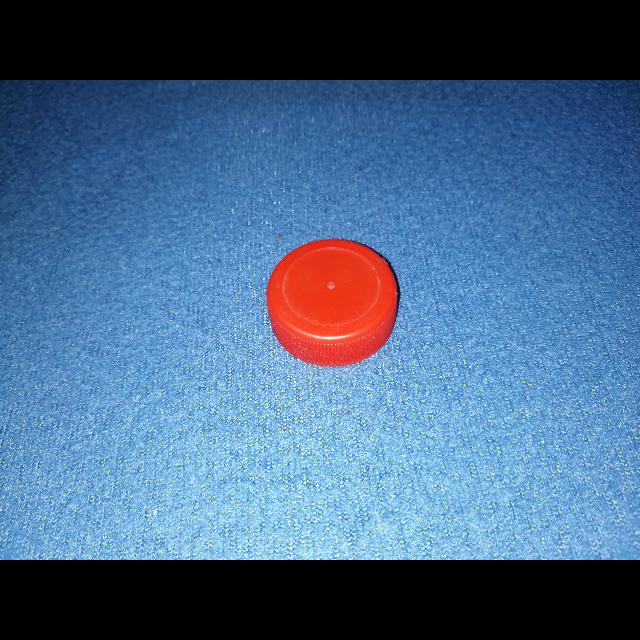plastic_bottle_cap: (266, 238, 399, 366)
